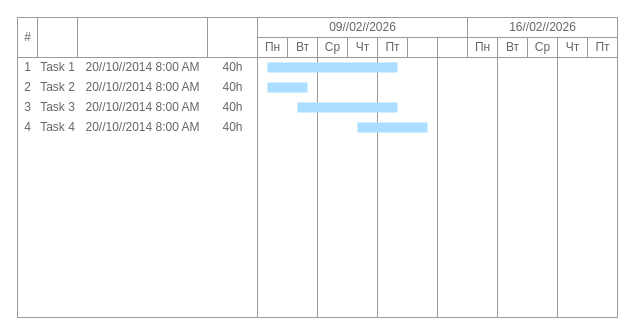
The diagram is 635 pixels wide and 335 high, and some of its shapes have lost their labels. The shapes that lost their labels are listed below. From the top down, each one's box as (x1, y1, x2, y2) in pixels, then its label:
(36, 16, 78, 58): Task
(76, 16, 208, 58): Start
(206, 16, 258, 58): Effort
